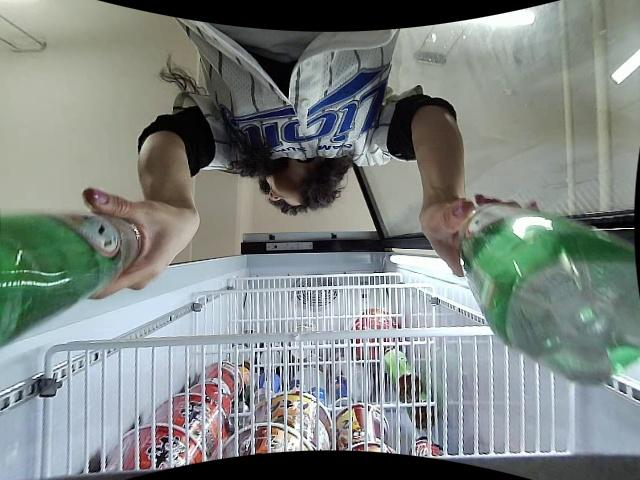00_hand: (80, 188, 198, 299), (419, 193, 538, 275)
18_trevi: (462, 201, 640, 385), (0, 213, 140, 351)
